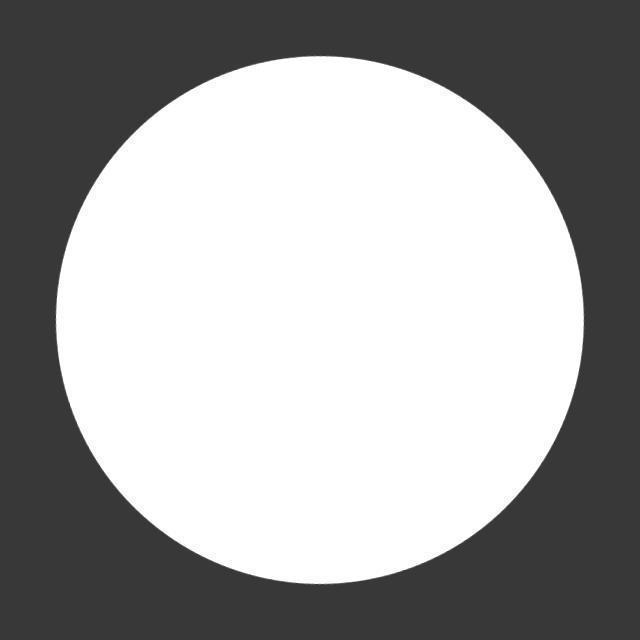Circle: (48, 52, 584, 586)
